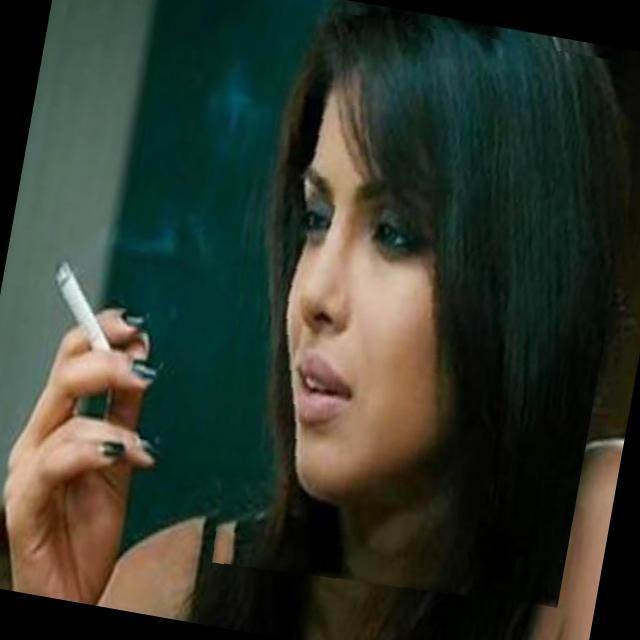cigarette: (7, 223, 181, 440)
